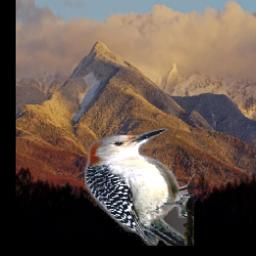Woodpecker: (84, 129, 194, 247)
